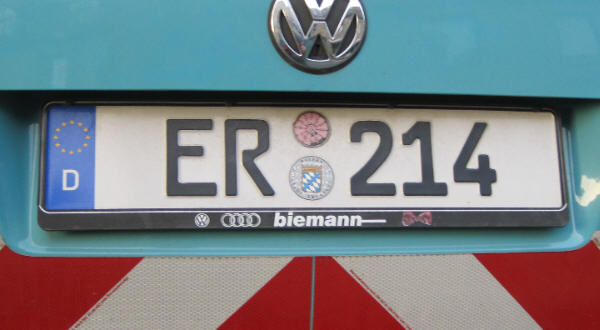license_plate: (38, 100, 567, 210)
